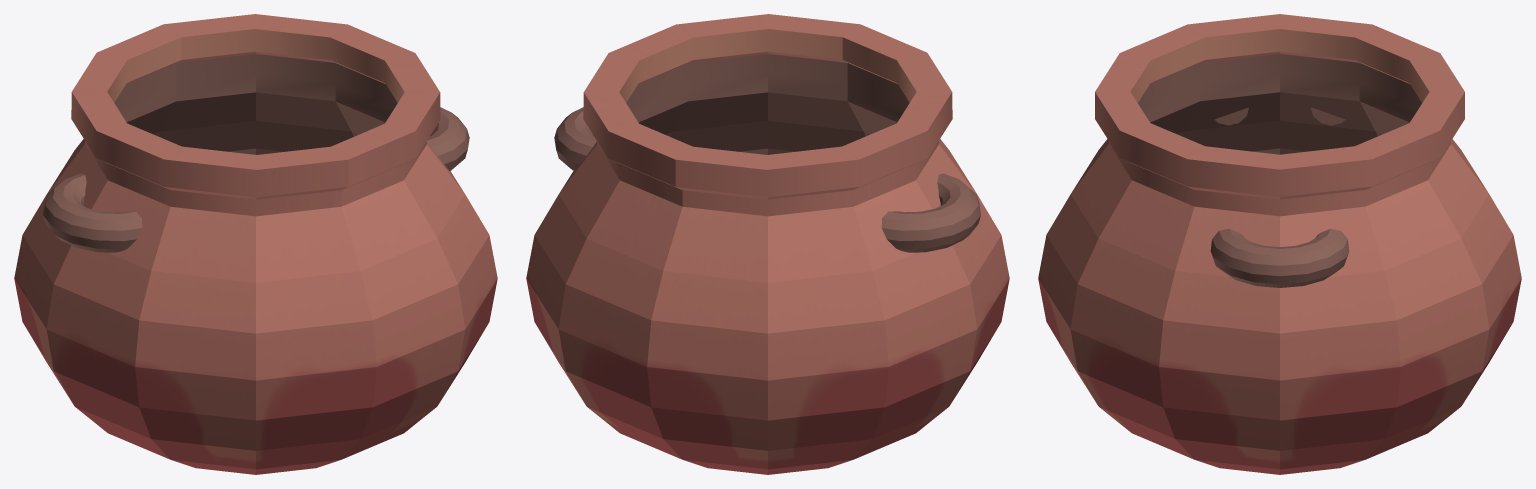
The model's file is Urn.fbx.
3 renders of one model, left to right at view 1: azimuth 30°, elevation 25°; view 2: azimuth 150°, elevation 25°; view 3: azimuth 270°, elevation 25°, orthographic.
Visible parts, largest first — view 1: Urn; view 2: Urn; view 3: Urn.
Part boxes in pixels (x1,y1,x2,y2): Urn: [14, 14, 497, 474]; Urn: [526, 14, 1009, 474]; Urn: [1038, 14, 1521, 474].
Size of the model in its own units: 105 by 84.65 by 105.
Materials: 1 (1 with a texture image).
